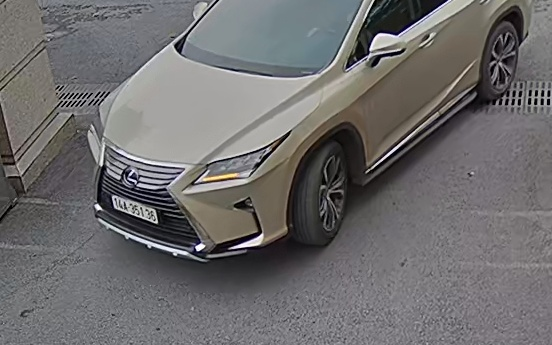vehicle plate: (107, 190, 159, 226)
